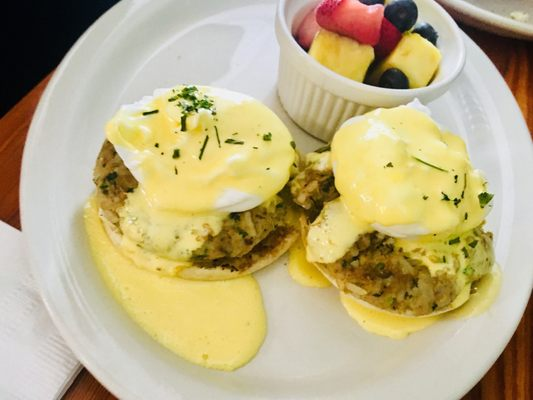sushi: (8, 1, 515, 400), (274, 0, 468, 143)
